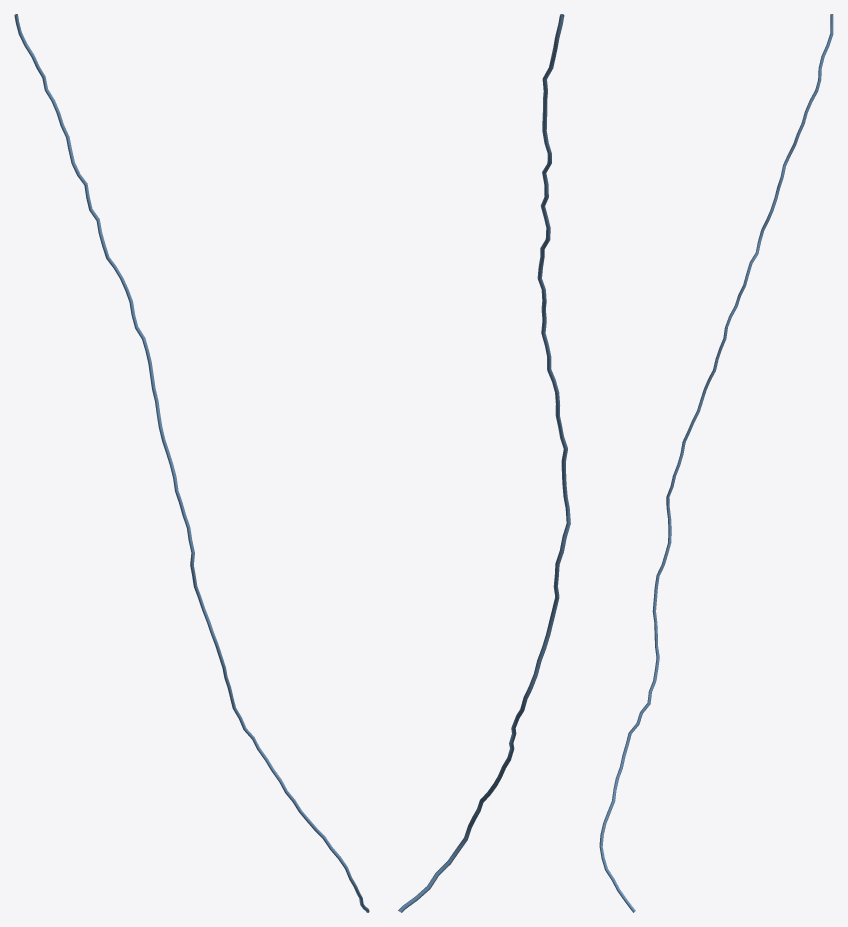
The model's file is sweep275.fbx.
3 renders of one model, left to right at view 1: azimuth 30°, elevation 25°; view 2: azimuth 150°, elevation 25°; view 3: azimuth 270°, elevation 25°, orthographic. The views are drawn at different scales.
Parts seen in each view (by area): view 1: sweep275; view 2: sweep275; view 3: sweep275.
Boxes of the visible parts, x1=… form: sweep275: x1=14, y1=14, x2=369, y2=912; sweep275: x1=398, y1=14, x2=570, y2=912; sweep275: x1=599, y1=14, x2=833, y2=912.
Size of the model in its own units: 1.53 by 5.22 by 1.4.
